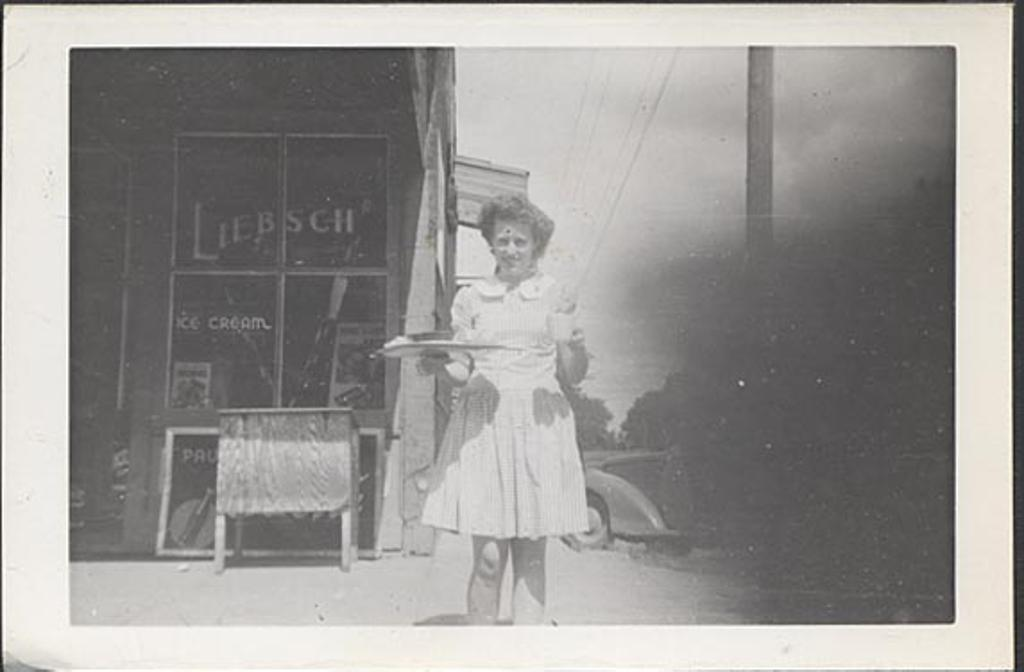face: (491, 229, 532, 278)
